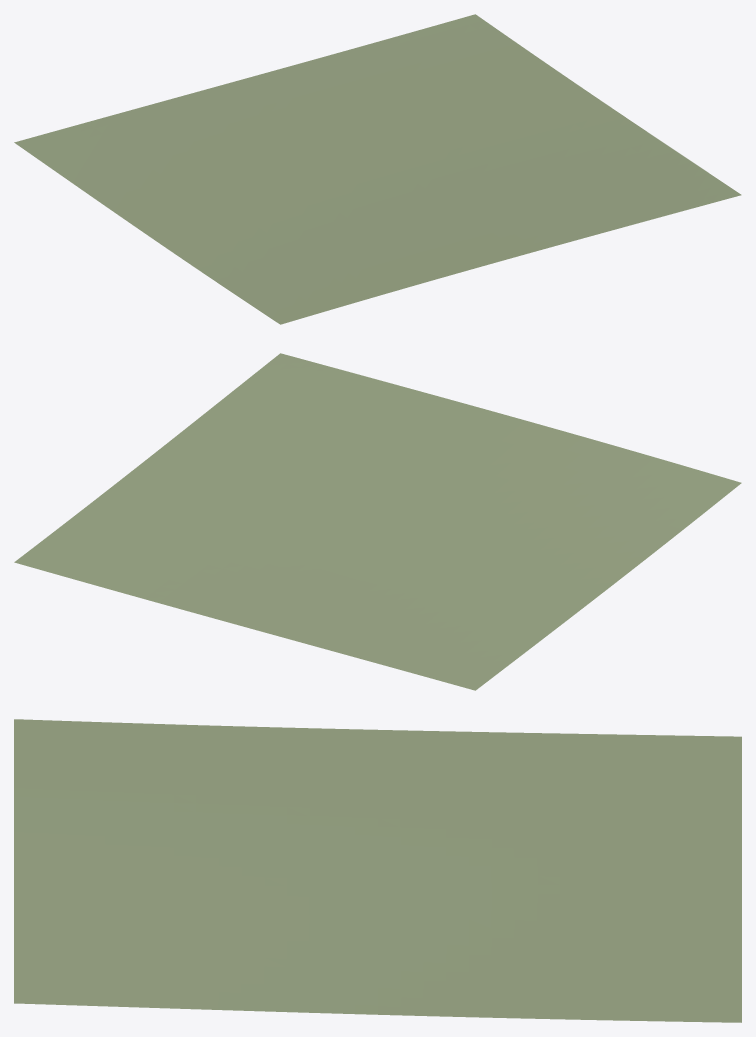
File: expanse-10-26.glb
3 renders of one model, top to bottom at view 1: azimuth 30°, elevation 25°; view 2: azimuth 150°, elevation 25°; view 3: azimuth 270°, elevation 25°, orthographic. The views are drawn at different scales.
Parts seen in each view (by area): view 1: expanse-10-26; view 2: expanse-10-26; view 3: expanse-10-26.
Part boxes in pixels (x1,y1,x2,y2): expanse-10-26: [14, 14, 741, 324]; expanse-10-26: [14, 353, 741, 690]; expanse-10-26: [14, 719, 741, 1022].
Size of the model in its own units: 256 by 15.83 by 256.
